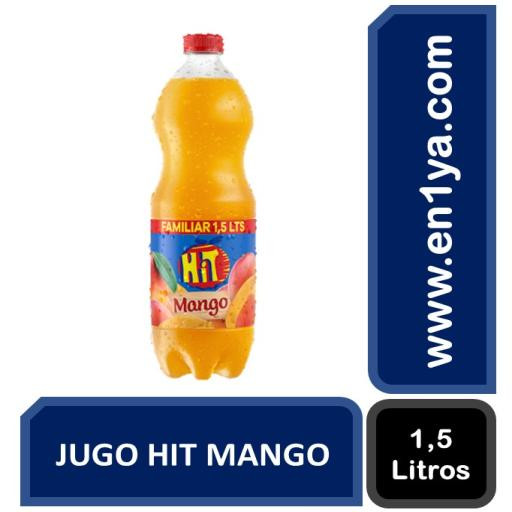JugoHM: (130, 2, 272, 392)
